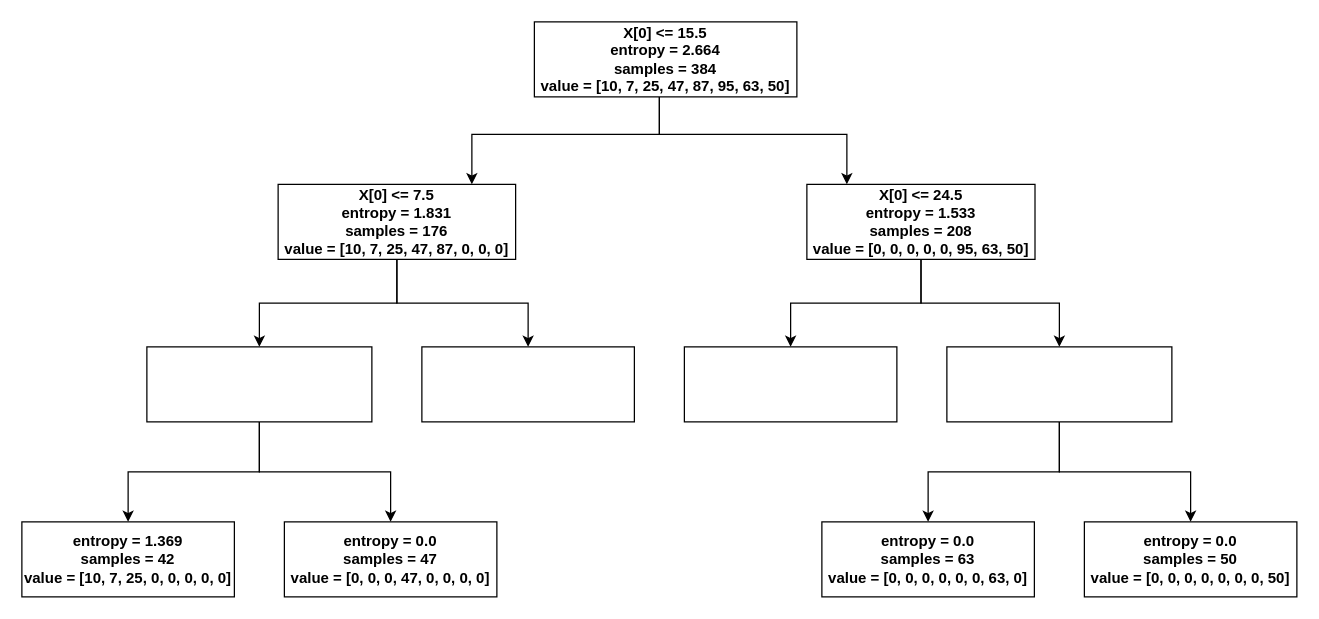
Image size: 1319x619. Some labels were removed from this diagram. Here are the shapes that lost their labels. From the top down, the centre of each, then its label:
point (259, 384): X[0] <= 3.5 entropy = 1.644 samples = 89 value = [10, 7, 25, 47, 0, 0, 0, 0]
point (527, 384): entropy = 0.0 samples = 87 value = [0, 0, 0, 0, 87, 0, 0, 0]
point (790, 384): entropy = 0.0 samples = 95 value = [0, 0, 0, 0, 0, 95, 0, 0]
point (1059, 384): X[0] <= 30.5 entropy = 0.99 samples = 113 value = [0, 0, 0, 0, 0, 0, 63, 50]
